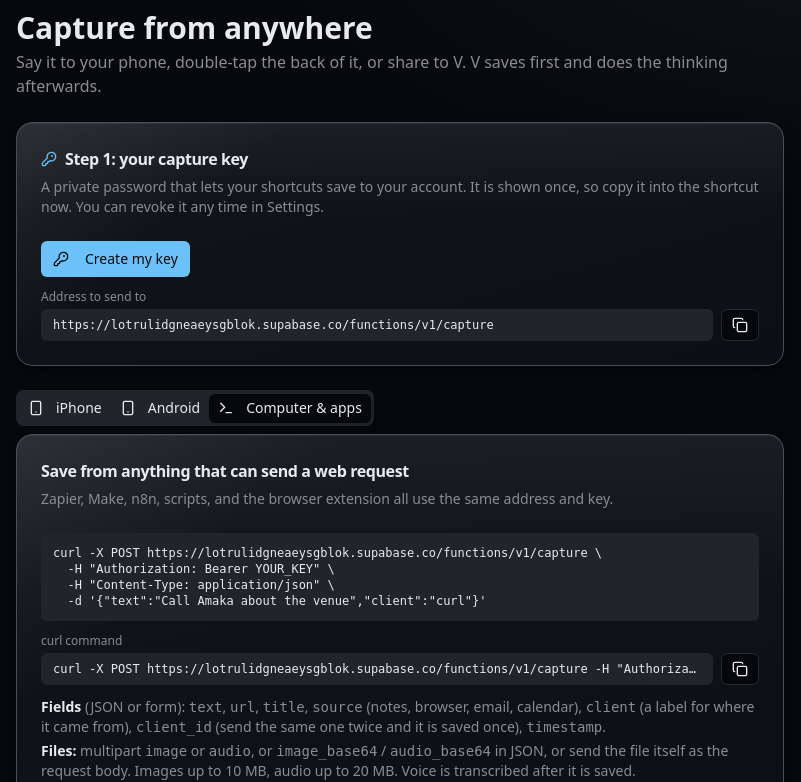
Test: shortcut setup controls › creates a key and tests authentication without writing a memory
The image size is (801, 782).
What coordinates should you click on to do the following:
click the button "Create my key"
I would click on:
 (115, 259)
Its box is [41,241,190,277].
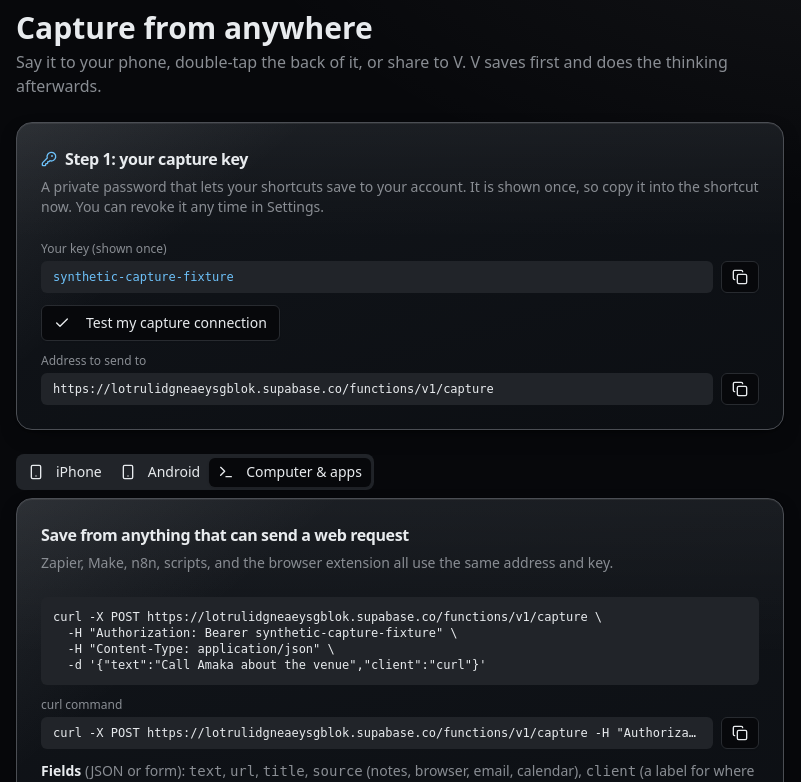
What coordinates should you click on to do the following:
click the button "Test my capture connection"
I would click on:
 (160, 323)
Its box is [41,305,280,341].
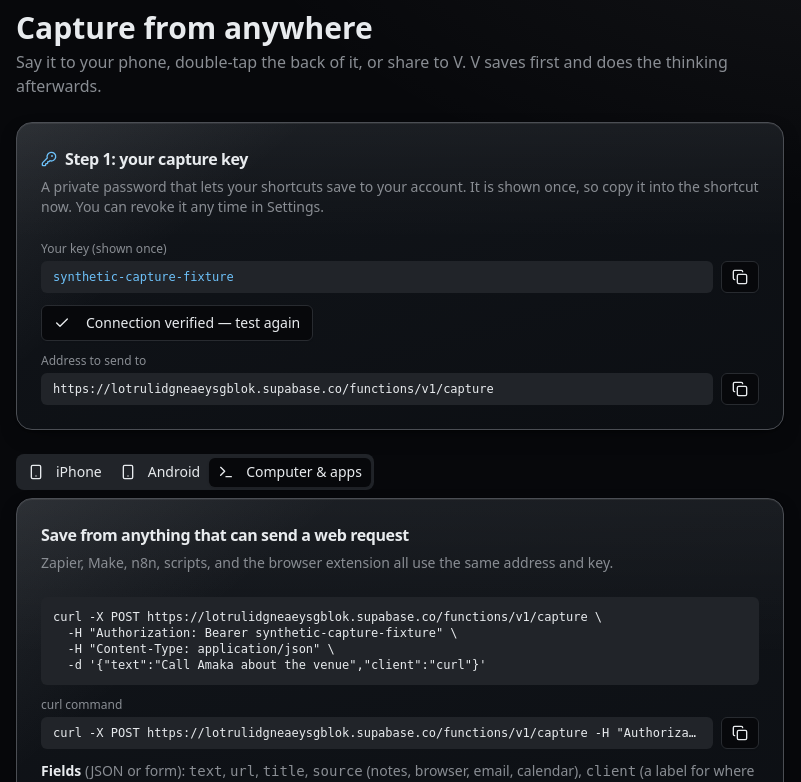
Check: the button "Connection verified — test again" is shown, box [41,305,313,341]
